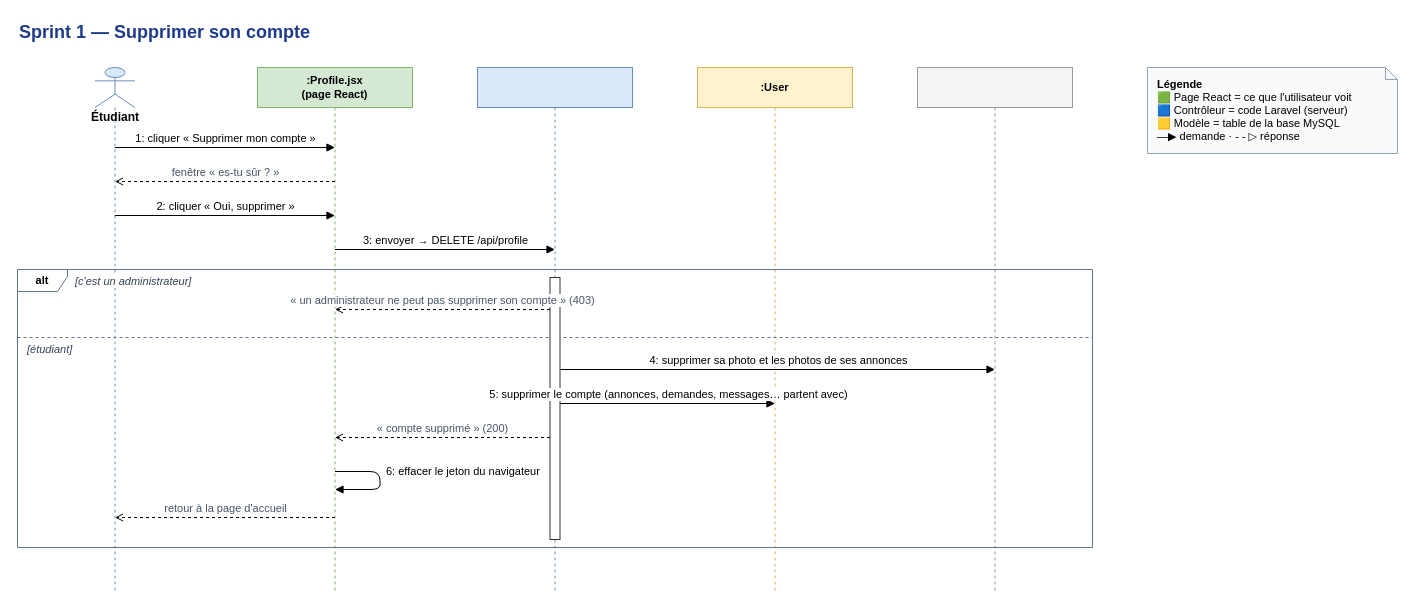
This 1415x611 diagram has some shape labels left out. The box of each missing label's shape, as (x1, y1, x2, y2) in pixels:
:ProfileController: (476, 66, 632, 594)
:Stockage (dossier photos): (916, 66, 1072, 594)
